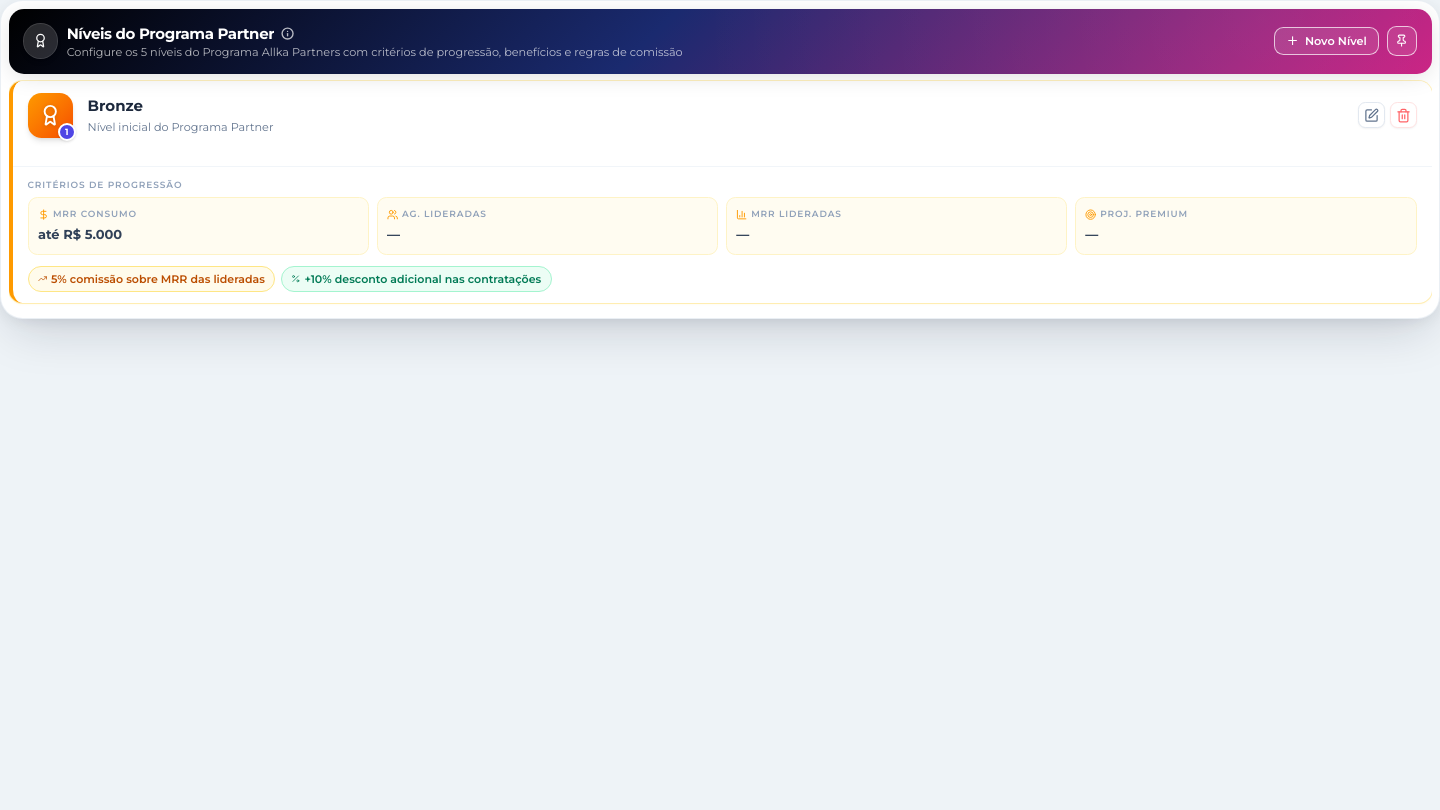
Test: Admin > Níveis — exclusão de nível (confirmação dupla) › 403 mostra mensagem amigável e mantém o nível
The image size is (1440, 810).
Click the button named "excluir nível": (1403, 115) [1390,102,1417,128]
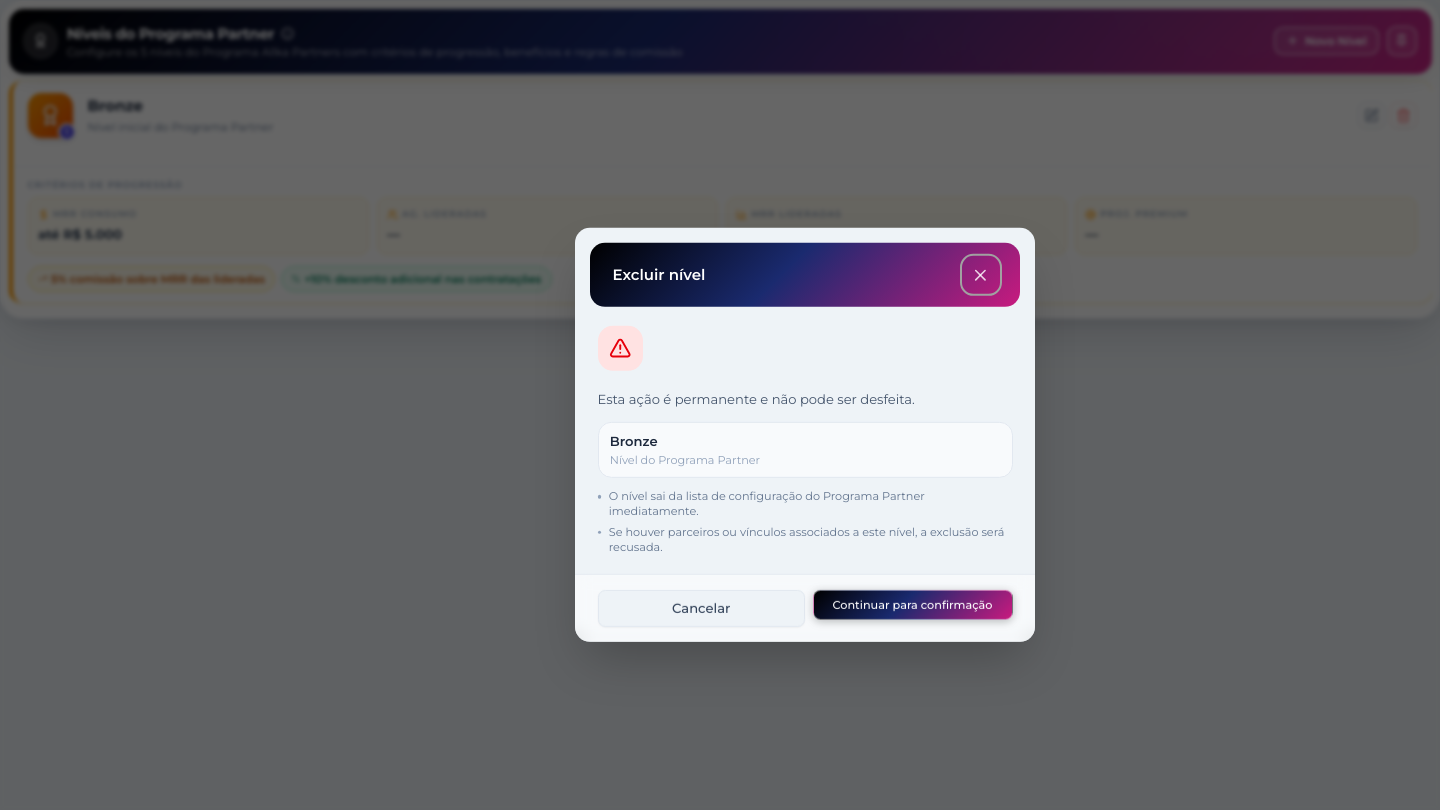
Click the button "Continuar para confirmação": (912, 605) [812,590,1012,620]
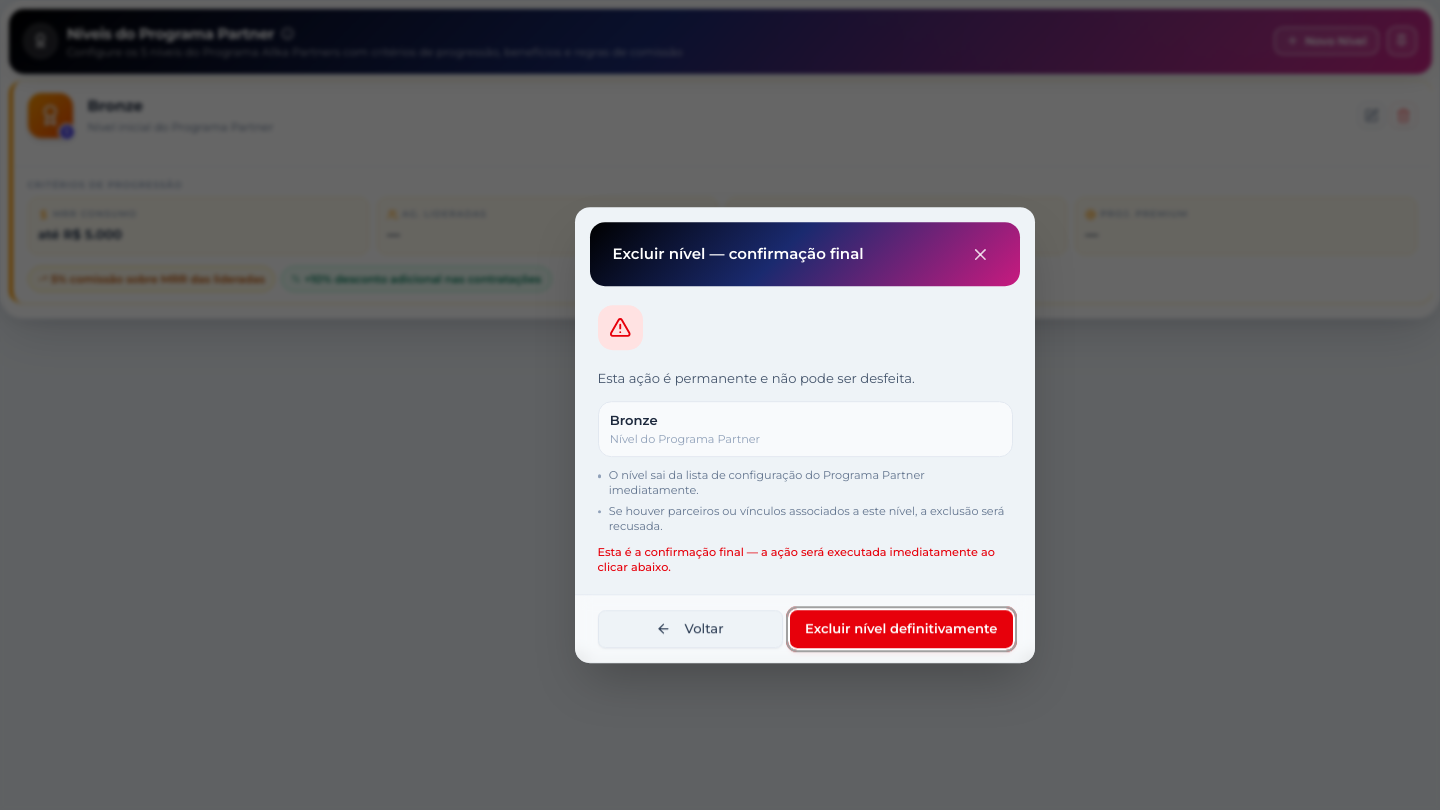
Click the button "Excluir nível definitivamente": (901, 629) [790,610,1012,648]
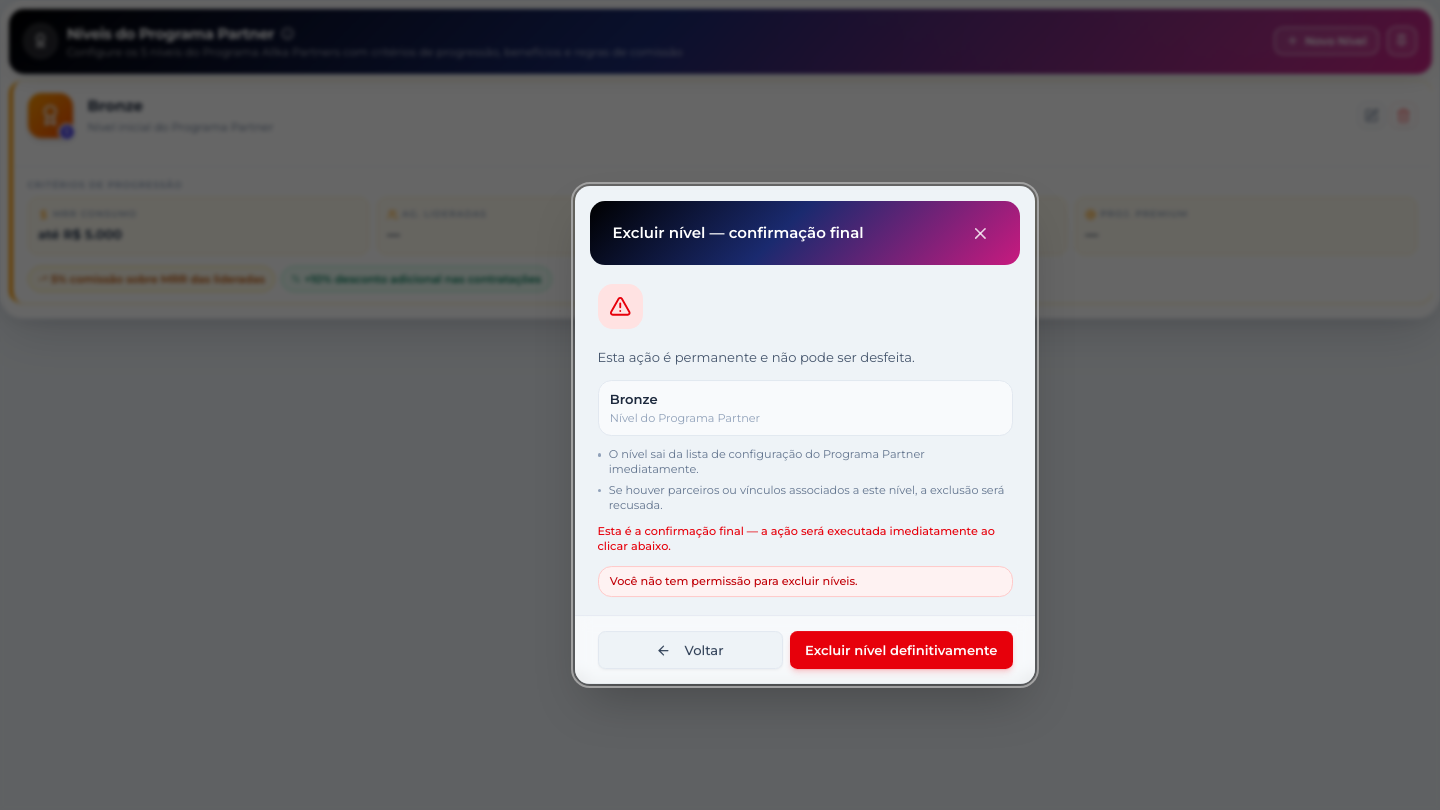
Check: the heading "Bronze" is shown, box [88,95,143,118]
Check: the text "Você não tem permissão para excluir níveis." is shown, box [610,574,858,588]
